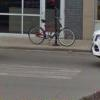Bicycle: (25, 14, 80, 49)
